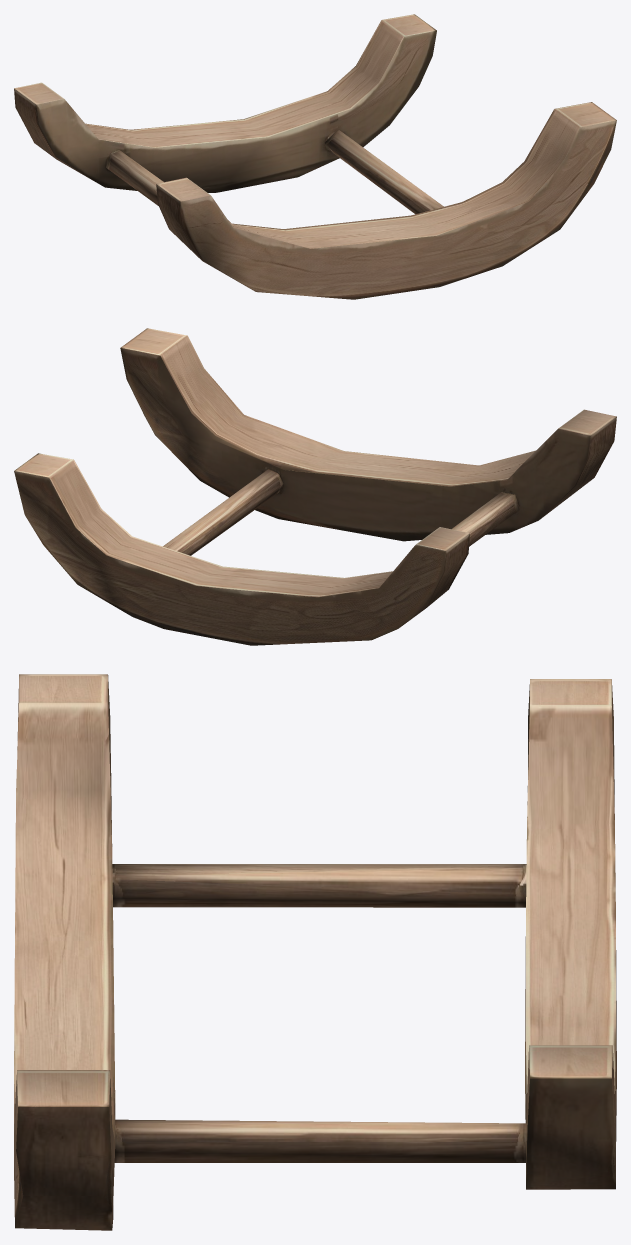
File: act1_kit_v1_rocker_runners.glb
3 renders of one model, top to bottom at view 1: azimuth 30°, elevation 25°; view 2: azimuth 150°, elevation 25°; view 3: azimuth 270°, elevation 25°, orthographic. The views are drawn at different scales.
Visible parts, largest first — view 1: A14_6_rocker_runners; view 2: A14_6_rocker_runners; view 3: A14_6_rocker_runners.
Part boxes in pixels (x1,y1,x2,y2): A14_6_rocker_runners: [14, 14, 616, 299]; A14_6_rocker_runners: [14, 328, 616, 645]; A14_6_rocker_runners: [14, 674, 616, 1230].
Bounding box in the file's own units: 0.9933 × 0.3174 × 0.6471.
1 material, 1 textured.
